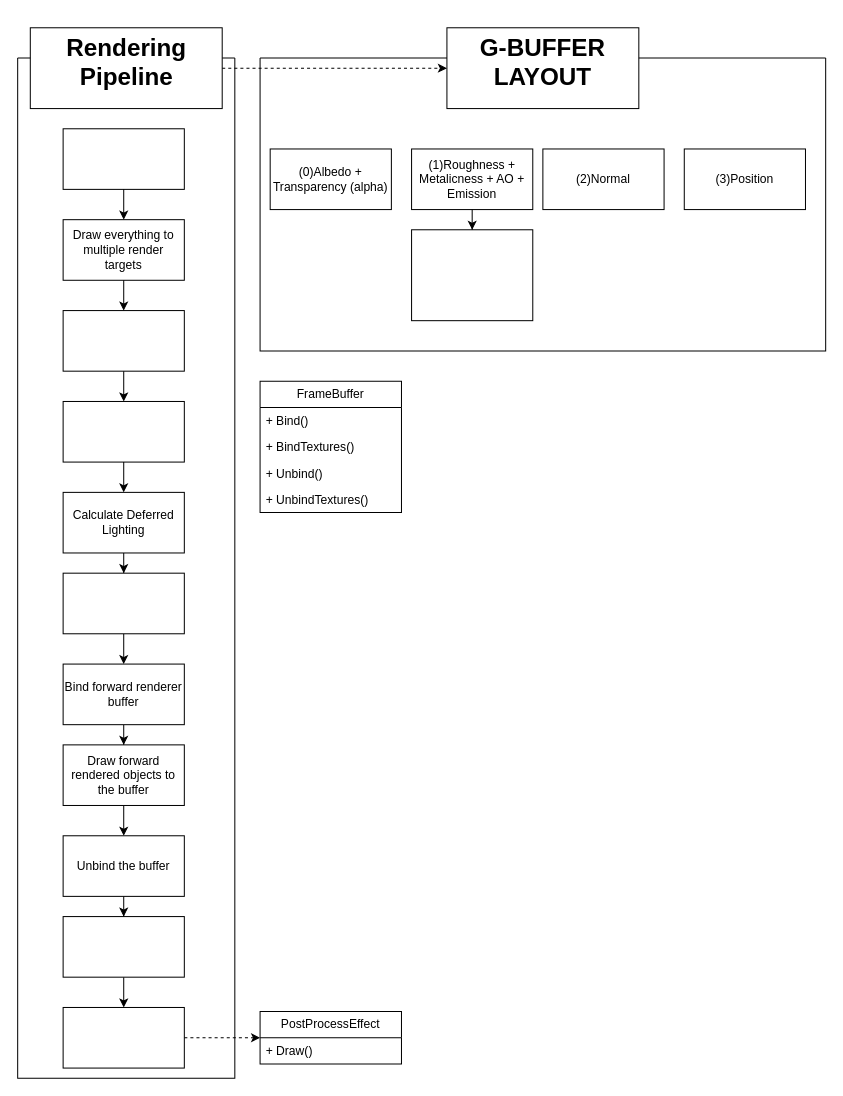
Image size: 843x1096. Some labels were removed from this diagram. The shapes that lost their labels are listed below. From the top down, each one's centre as x and y in pixels, then its label:
At (x=123, y=158): "Bind G-Buffer framebuffer".
At (x=472, y=275): "Roughness = R Metalicness = G EmissionStrength = B Ambient Occlusion = Alpha".
At (x=123, y=340): "Unbind framebuffer".
At (x=123, y=431): "Bind framebuffer's textures".
At (x=123, y=603): "Copy depth buffer from original G Buffer into Forward Renderer Buffer".
At (x=123, y=946): "Bind the final result texture".
At (x=123, y=1037): "Apply Post Processing".
